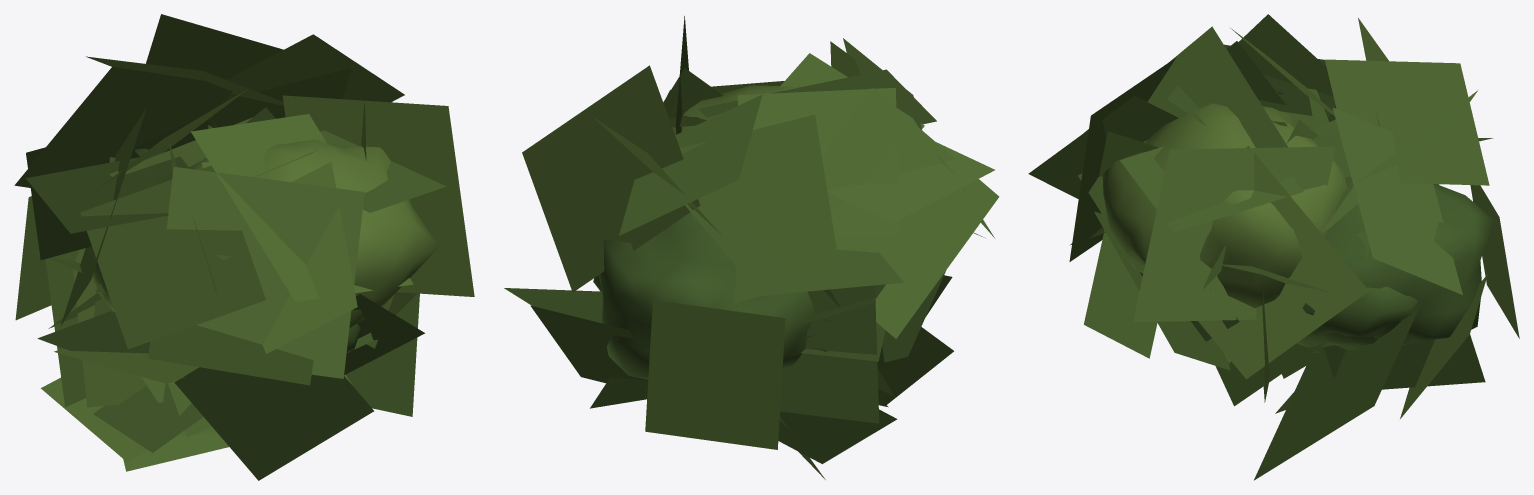
Rendered from Scenery_Bush.fbx.
The picture shows the model from 3 angles, left to right: view 1: azimuth 30°, elevation 25°; view 2: azimuth 150°, elevation 25°; view 3: azimuth 270°, elevation 25°; orthographic projection. The views are drawn at different scales.
Visible parts, largest first — view 1: Scenery_Bush_Mesh; view 2: Scenery_Bush_Mesh; view 3: Scenery_Bush_Mesh.
Boxes of the visible parts, box(x1,y1,x2,y2) form: Scenery_Bush_Mesh: box(14, 14, 474, 480); Scenery_Bush_Mesh: box(504, 16, 999, 479); Scenery_Bush_Mesh: box(1028, 14, 1519, 480).
Size of the model in its own units: 2.72 by 2.36 by 2.81.
